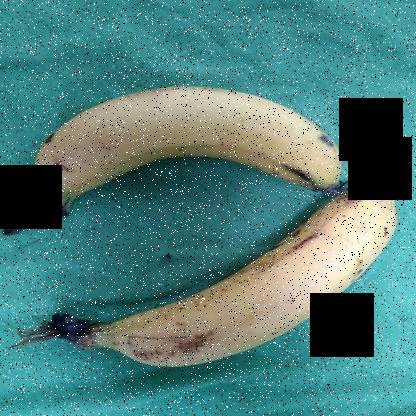freshripe: (23, 76, 344, 217)
ripe: (88, 176, 402, 377)
